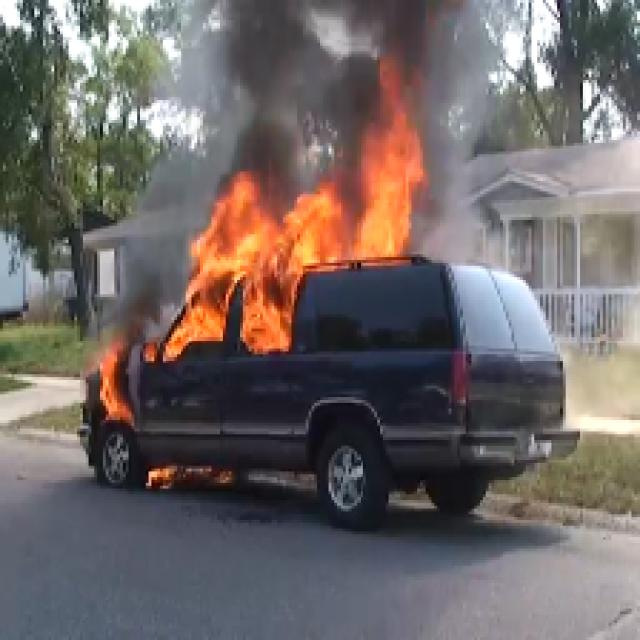fire: (177, 185, 413, 347), (178, 0, 507, 110), (358, 116, 427, 182), (94, 347, 128, 418)
